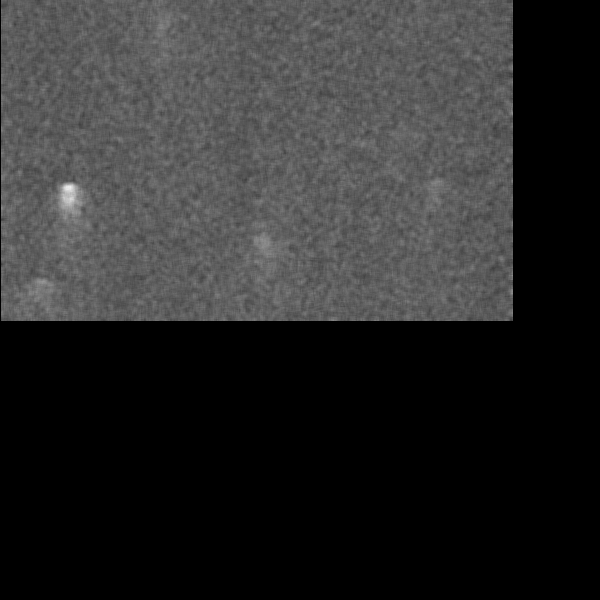spark: (53, 174, 81, 271), (419, 170, 450, 220), (250, 224, 271, 278), (27, 273, 52, 306), (152, 8, 171, 50)
